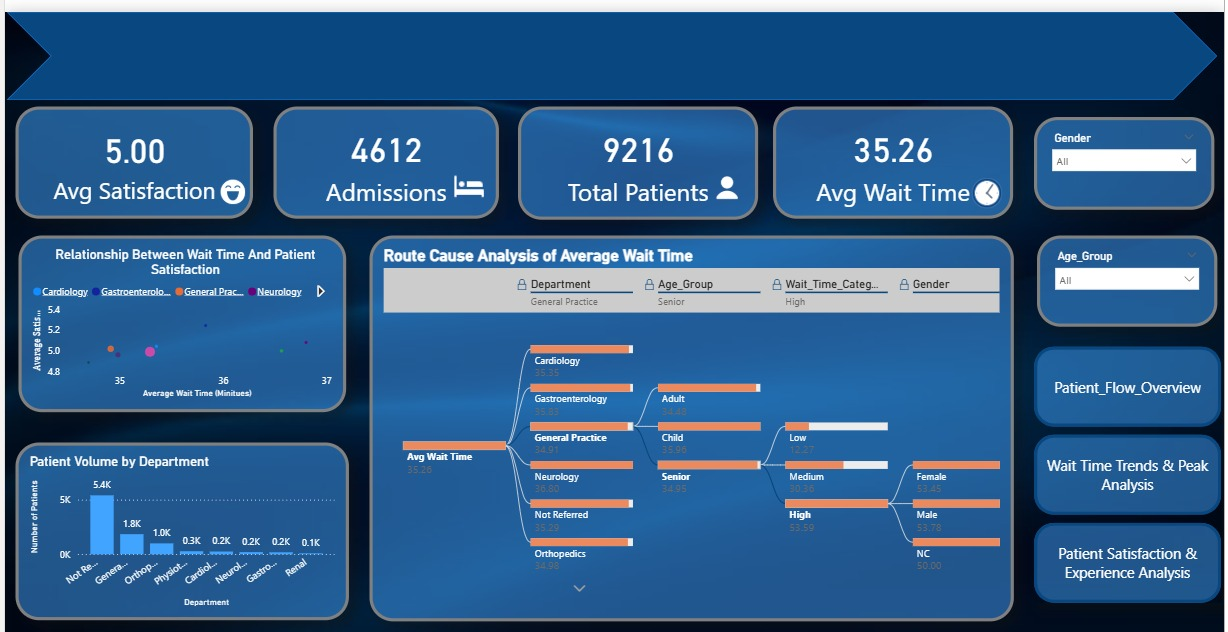

This screenshot's page, from the dashboard's own definition file:
{"tool":"powerbi","page":{"name":"Department Bottelneck Analysis","canvas":[1550,800],"ordinal":1},"visuals":[{"type":"scatterChart","title":"Relationship Between Wait Time And Patient Satisfaction","fields":{"Series":["Hospital_Patient_Data.Department"],"Size":["Hospital_Patient_Data.Total Patients"],"X":["Hospital_Patient_Data.Avg Wait Time"],"Y":["Hospital_Patient_Data.Avg Satisfaction"]},"box":[17,283.4,416.5,224.5],"z":0},{"type":"clusteredColumnChart","title":"Patient Volume by Department","fields":{"Category":["Hospital_Patient_Data.Department"],"Y":["Hospital_Patient_Data.Total Patients"]},"box":[13.9,548.2,424.3,226.1],"z":1000},{"type":"card","fields":{"Values":["Hospital_Patient_Data.Total Patients"]},"box":[651.9,119.2,305,144],"z":2000},{"type":"card","fields":{"Values":["Hospital_Patient_Data.Avg Satisfaction"]},"box":[13.9,120.8,301.9,142.5],"z":3000},{"type":"card","fields":{"Values":["Hospital_Patient_Data.Admissions"]},"box":[342.2,120.8,286.5,142.5],"z":4000},{"type":"card","fields":{"Values":["Hospital_Patient_Data.Avg Wait Time"]},"box":[977.1,119.2,305,142.5],"z":5000},{"type":"shape","box":[1.3,0,1539.5,112],"z":6000},{"type":"image","box":[1228.7,207.2,40.7,44.6],"z":7000},{"type":"decompositionTreeVisual","title":"Route Cause Analysis of Average Wait Time","fields":{"Analyze":["Hospital_Patient_Data.Avg Wait Time"],"ExplainBy":["Hospital_Patient_Data.Department","Hospital_Patient_Data.Age_Group","Hospital_Patient_Data.Wait_Time_Category","Hospital_Patient_Data.Gender"]},"box":[463,283.4,819.1,490.9],"z":8000},{"type":"slicer","fields":{"Values":["Hospital_Patient_Data.Gender"]},"box":[1308.4,133.2,229.2,117.7],"z":10000},{"type":"slicer","fields":{"Values":["Hospital_Patient_Data.Age_Group"]},"box":[1311.5,283.4,229.2,116.1],"z":11000},{"type":"pageNavigator","box":[1308.4,425.8,238.5,326.7],"z":12000},{"type":"image","box":[894.1,196.6,47.3,43.5],"z":13000},{"type":"image","box":[272.8,211.1,34.1,34.1],"z":14000},{"type":"image","box":[567.1,196.6,47.3,43.5],"z":15000}]}

Visuals, with their boxes in screenshot pixels (x1, y1, x2, y2), scaled from the page's 1550x800 canvas onto the 1228x632 screenshot:
"Relationship Between Wait Time And Patient Satisfaction" scatterChart: bbox=[13, 224, 343, 401]
"Patient Volume by Department" clusteredColumnChart: bbox=[11, 433, 347, 612]
card - Hospital_Patient_Data.Total Patients: bbox=[516, 94, 758, 208]
card - Hospital_Patient_Data.Avg Satisfaction: bbox=[11, 95, 250, 208]
card - Hospital_Patient_Data.Admissions: bbox=[271, 95, 498, 208]
card - Hospital_Patient_Data.Avg Wait Time: bbox=[774, 94, 1016, 207]
shape: bbox=[1, 0, 1221, 88]
image: bbox=[973, 164, 1006, 199]
"Route Cause Analysis of Average Wait Time" decompositionTreeVisual: bbox=[367, 224, 1016, 612]
slicer - Hospital_Patient_Data.Gender: bbox=[1037, 105, 1218, 198]
slicer - Hospital_Patient_Data.Age_Group: bbox=[1039, 224, 1221, 316]
pageNavigator: bbox=[1037, 336, 1226, 594]
image: bbox=[708, 155, 746, 190]
image: bbox=[216, 167, 243, 194]
image: bbox=[449, 155, 487, 190]
